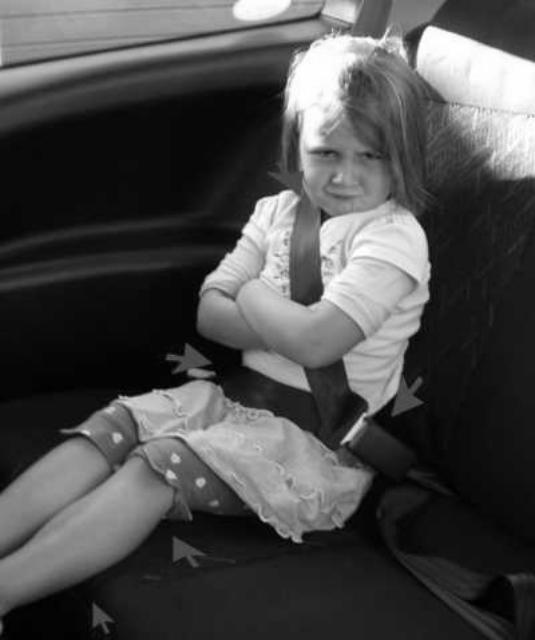SafeDriving: (304, 142, 344, 164), (351, 144, 386, 166)
Seatbelt: (227, 184, 381, 462)
